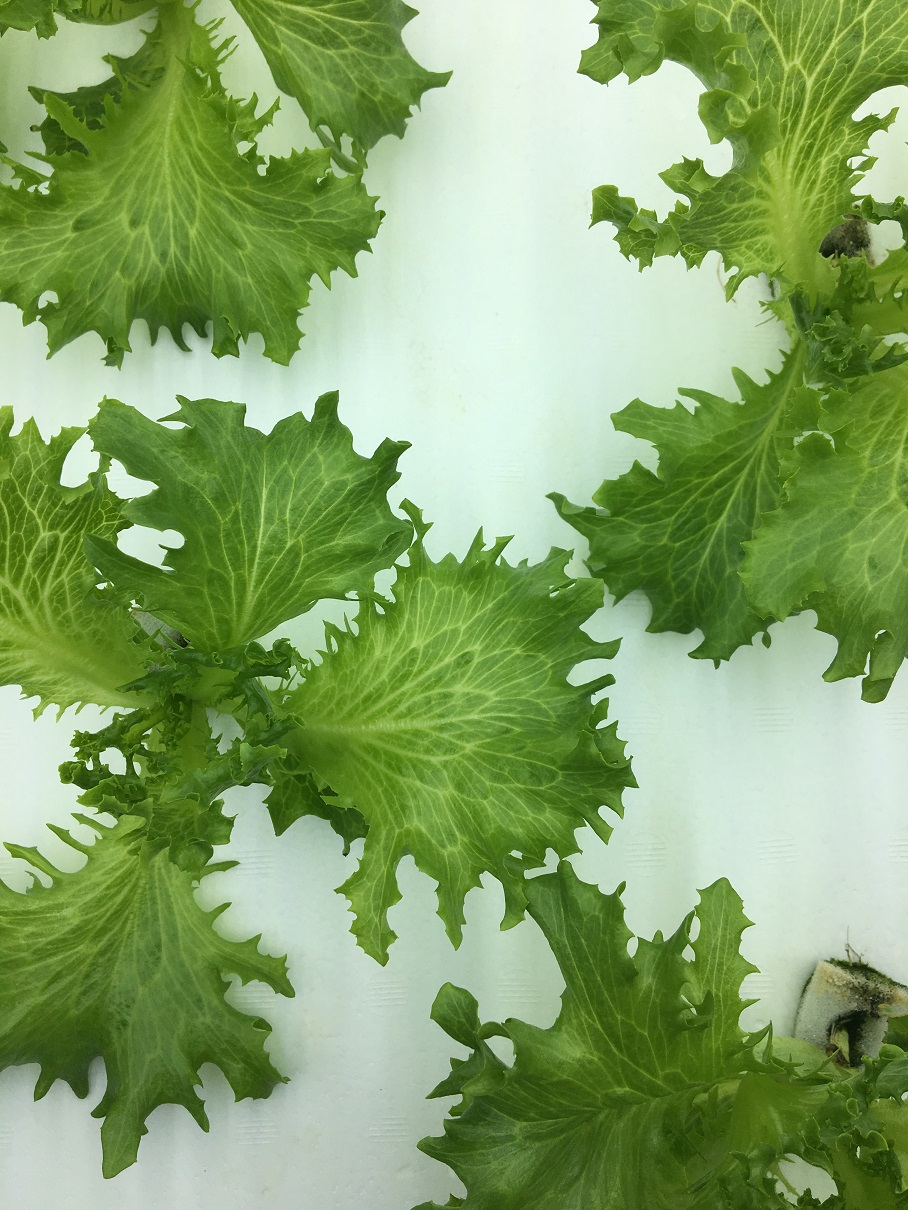tipburn: (337, 844, 354, 865)
